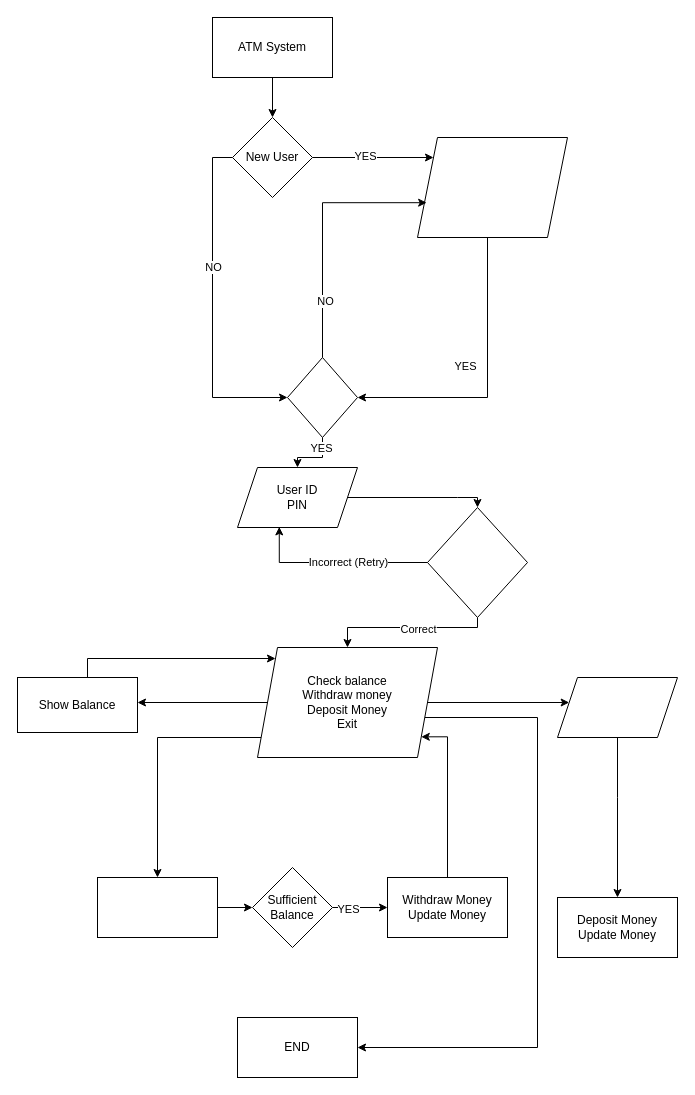
Image size: 695x1095. Some labels were removed from this diagram. The shapes that lost their labels are listed below. From the top down, each one's centre as x and y in pixels, then its label:
[492,187]: Firsr name Last name User ID PIN Opening balance
[322,397]: Unique ID
[477,562]: Check Credentials(up to 3 times)
[617,707]: Deposite Money
[157,907]: Withdraw
